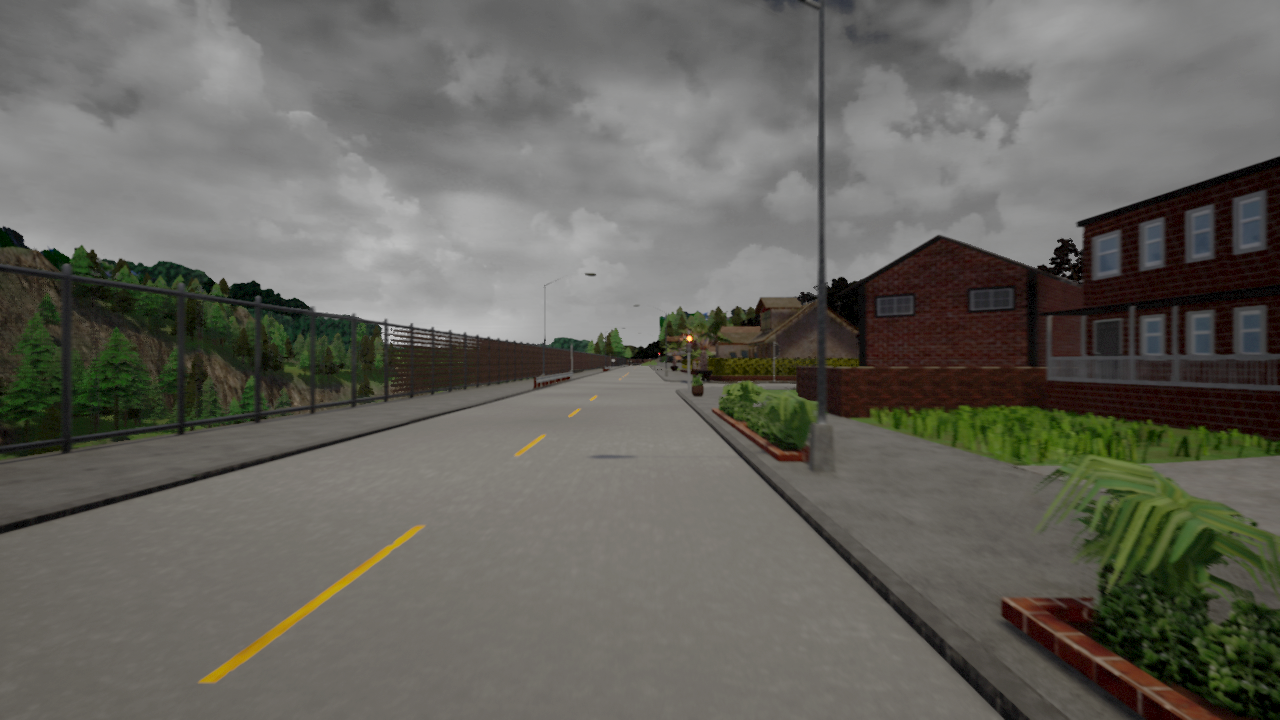red: (685, 333, 693, 353)
